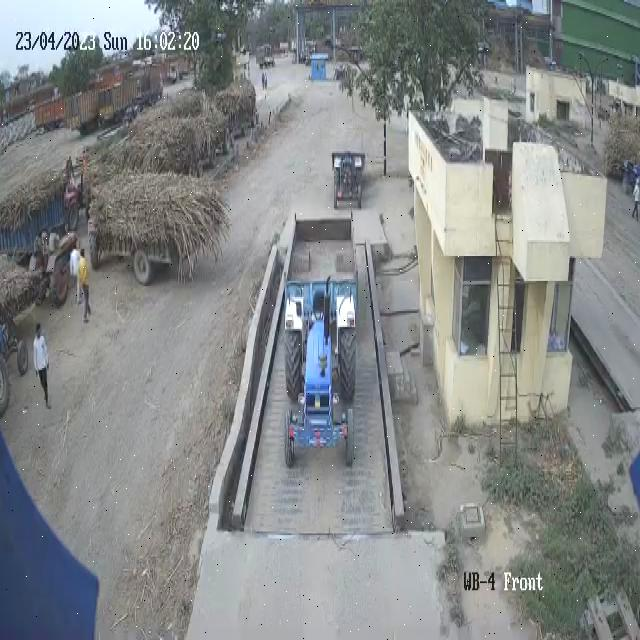Tratores - v5 YOLO V8L 2024-11-13: (276, 270, 360, 476), (334, 142, 362, 210)
